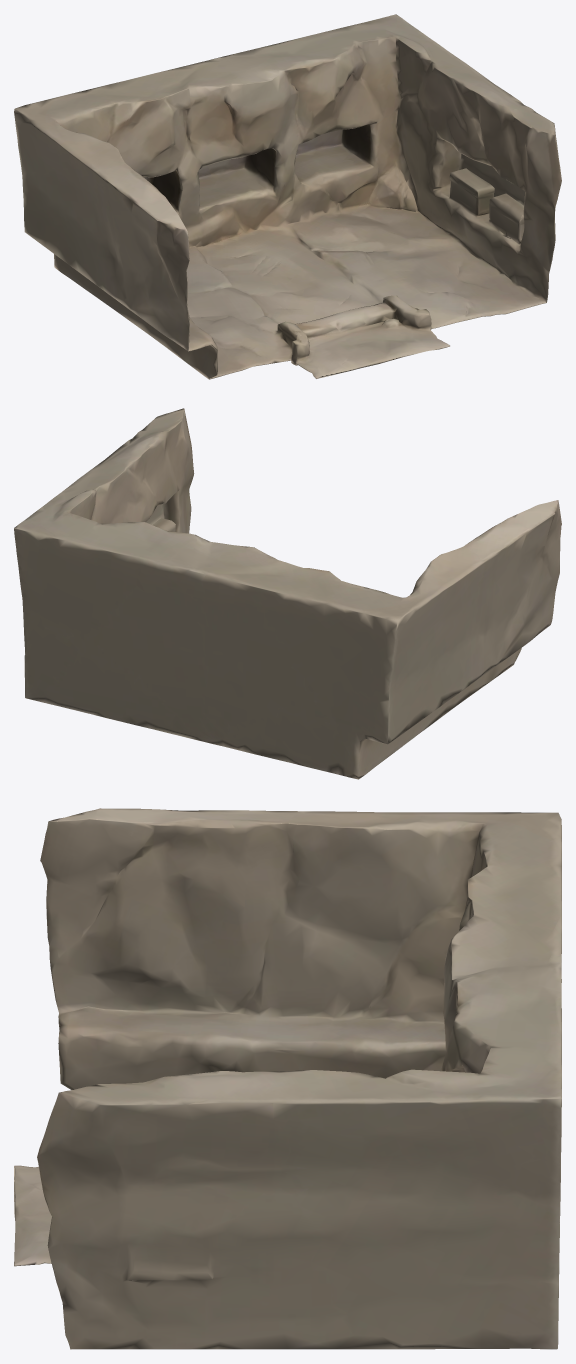
Rendered from tumulo_camara.glb.
The picture shows the model from 3 angles, top to bottom: view 1: azimuth 30°, elevation 25°; view 2: azimuth 150°, elevation 25°; view 3: azimuth 270°, elevation 25°; orthographic projection. The views are drawn at different scales.
Parts seen in each view (by area): view 1: Tumulo_Camara; view 2: Tumulo_Camara; view 3: Tumulo_Camara.
Boxes of the visible parts, box(x1,y1,x2,y2) form: Tumulo_Camara: box(14, 14, 561, 379); Tumulo_Camara: box(14, 408, 561, 779); Tumulo_Camara: box(14, 808, 561, 1349).
Size of the model in its own units: 4.6 by 2.01 by 3.59.
1 material, 1 textured.
